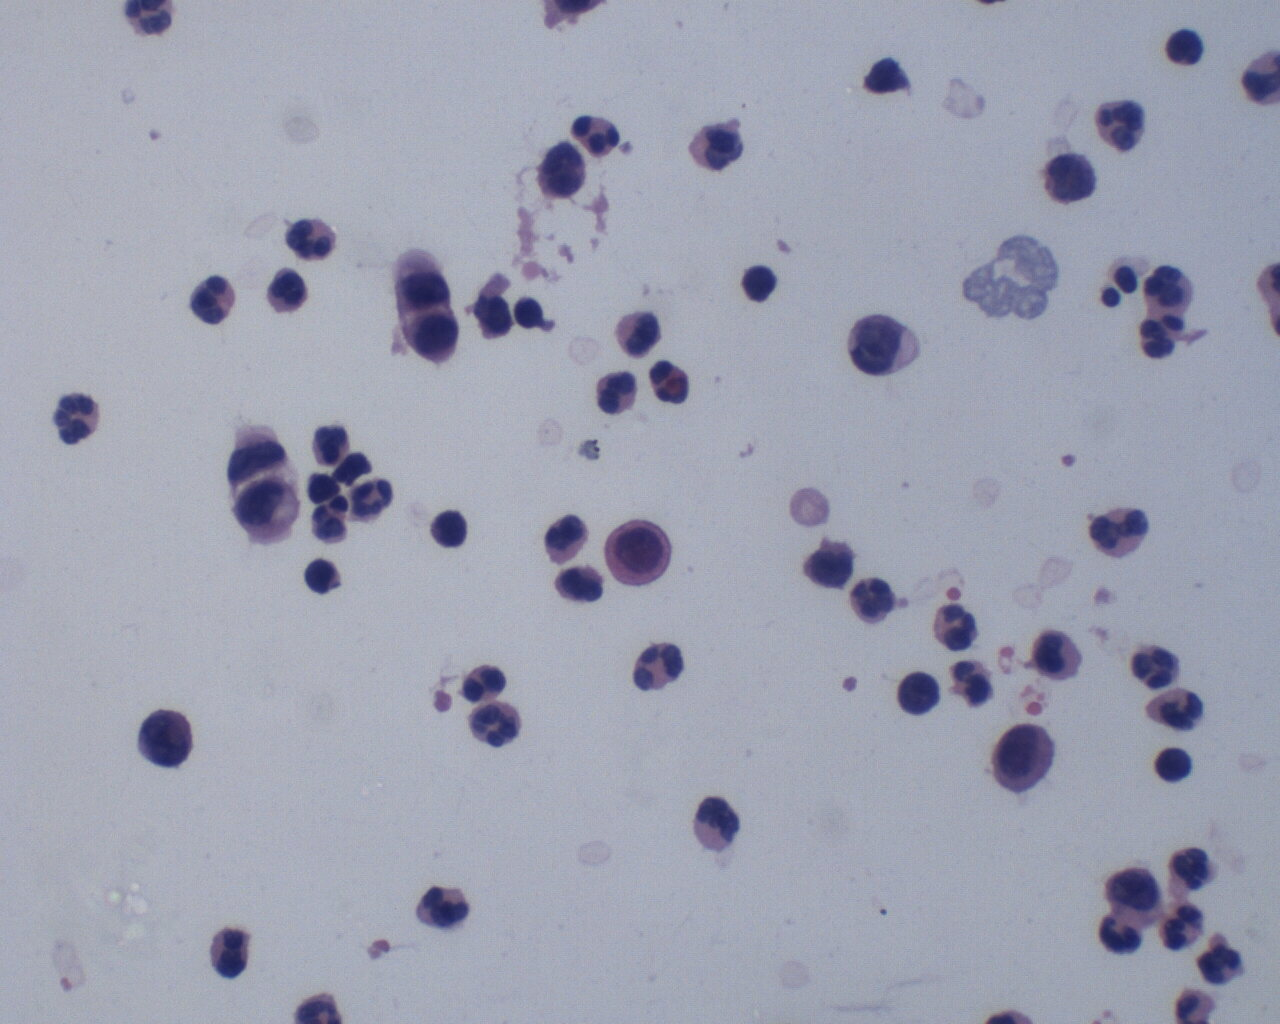ab: (990, 720, 1058, 796), (136, 702, 201, 773), (1042, 147, 1104, 209), (800, 532, 862, 594), (398, 301, 461, 362)
lymph: (735, 258, 786, 307), (894, 669, 940, 718), (299, 552, 343, 596), (1153, 747, 1197, 786), (429, 511, 471, 551)
meso: (597, 514, 673, 591)
neutro: (1138, 255, 1201, 316), (1095, 91, 1151, 156), (841, 573, 898, 636), (1089, 503, 1150, 558), (411, 883, 471, 935), (1128, 641, 1187, 694), (286, 214, 343, 267), (1158, 897, 1211, 953), (1133, 309, 1190, 362), (632, 641, 686, 694), (185, 271, 235, 327), (55, 390, 104, 447), (469, 701, 525, 749), (931, 603, 980, 652), (594, 369, 641, 419), (571, 113, 624, 157), (350, 475, 395, 521)
